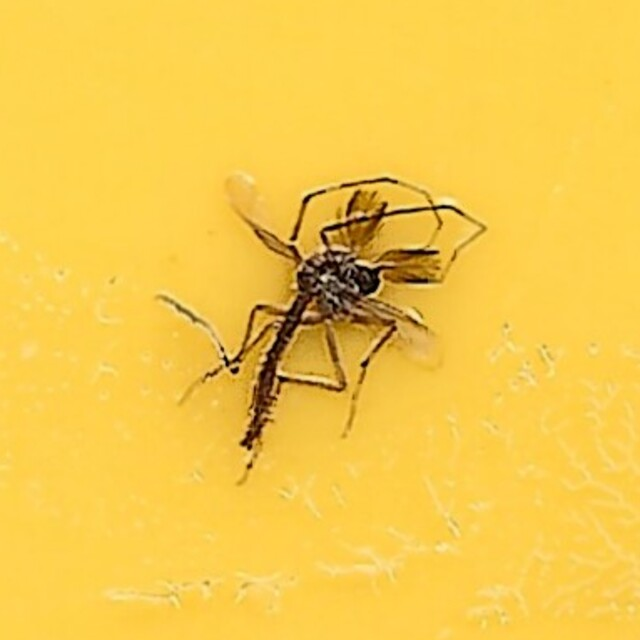Nematocera: (167, 175, 473, 465)
